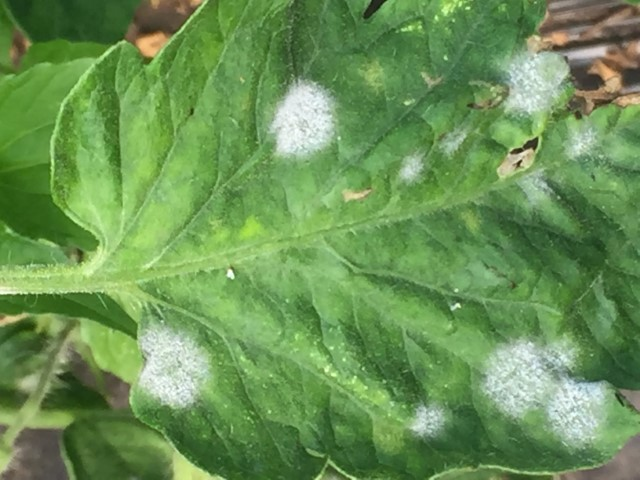oidio: (138, 326, 212, 410), (270, 79, 340, 159), (483, 339, 545, 421), (546, 377, 610, 451), (503, 49, 567, 115), (546, 334, 581, 374), (408, 404, 445, 439), (564, 126, 597, 160), (398, 151, 424, 184), (522, 172, 554, 198), (440, 130, 465, 157)
